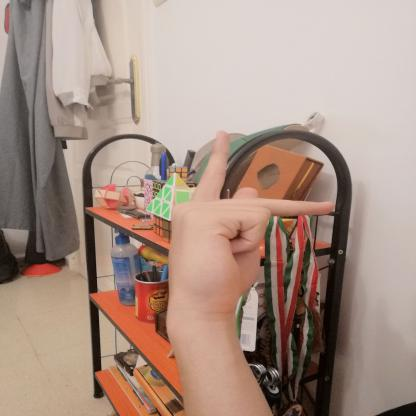DHAA: (155, 122, 346, 328)
